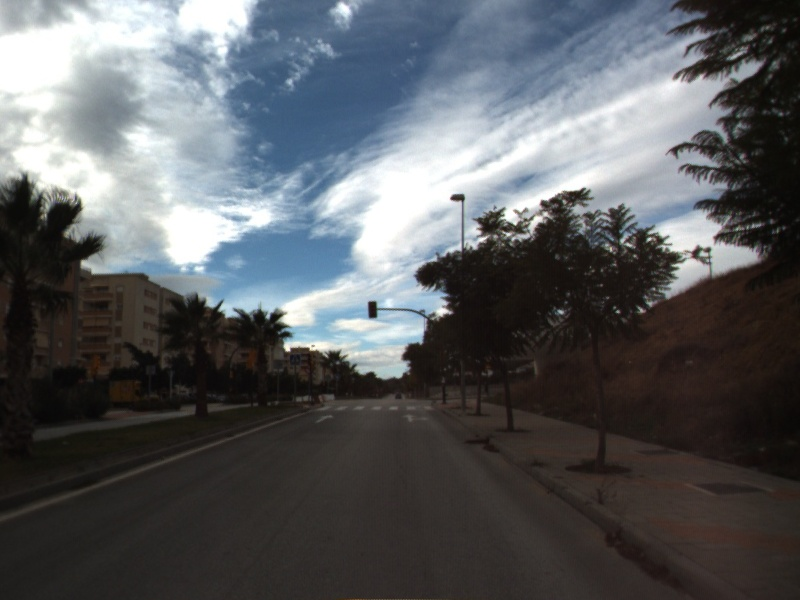STRAIGHT: (313, 412, 336, 425)
STRAIGHT_RIGHT: (400, 412, 431, 424)
